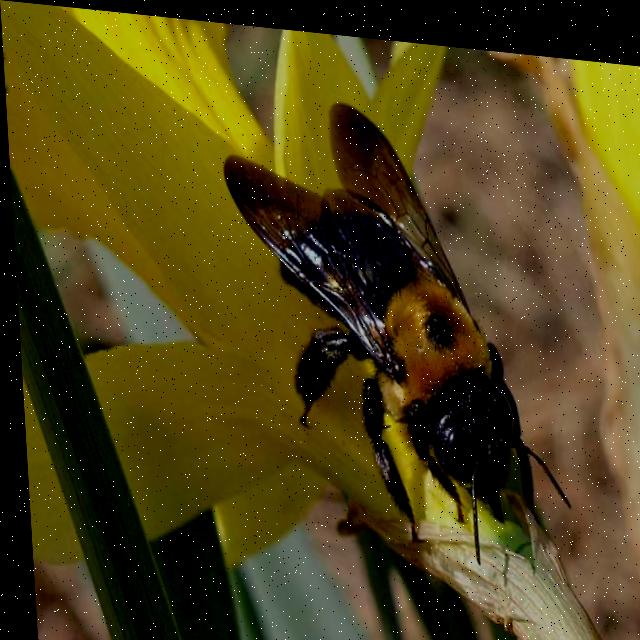Xylocopa: (211, 77, 575, 587)
